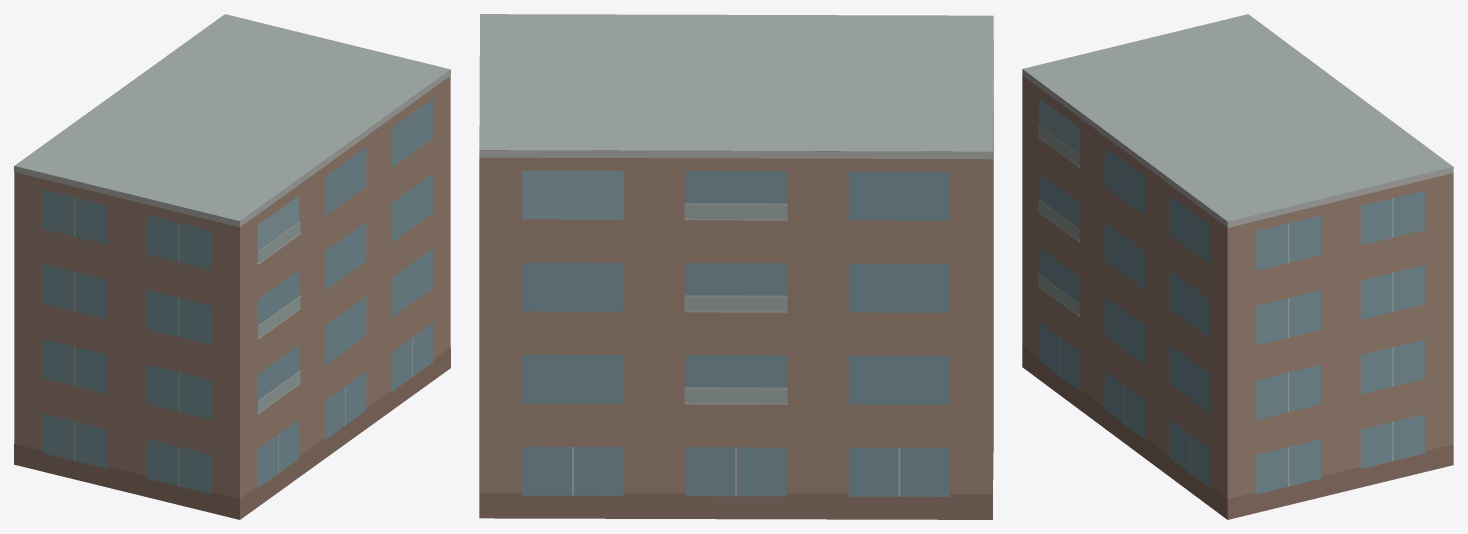
Rendered from survey-upis-32939931.glb.
The picture shows the model from 3 angles, left to right: view 1: azimuth 30°, elevation 25°; view 2: azimuth 150°, elevation 25°; view 3: azimuth 270°, elevation 25°; orthographic projection. The views are drawn at different scales.
Visible parts, largest first — view 1: survey-upis-32939931.tmp; view 2: survey-upis-32939931.tmp; view 3: survey-upis-32939931.tmp.
Boxes of the visible parts, x1,y1,x2,y2 form: survey-upis-32939931.tmp: (14, 14, 450, 519); survey-upis-32939931.tmp: (479, 14, 993, 519); survey-upis-32939931.tmp: (1022, 14, 1453, 519).
Size of the model in its own units: 17.64 by 11.8 by 15.48.
